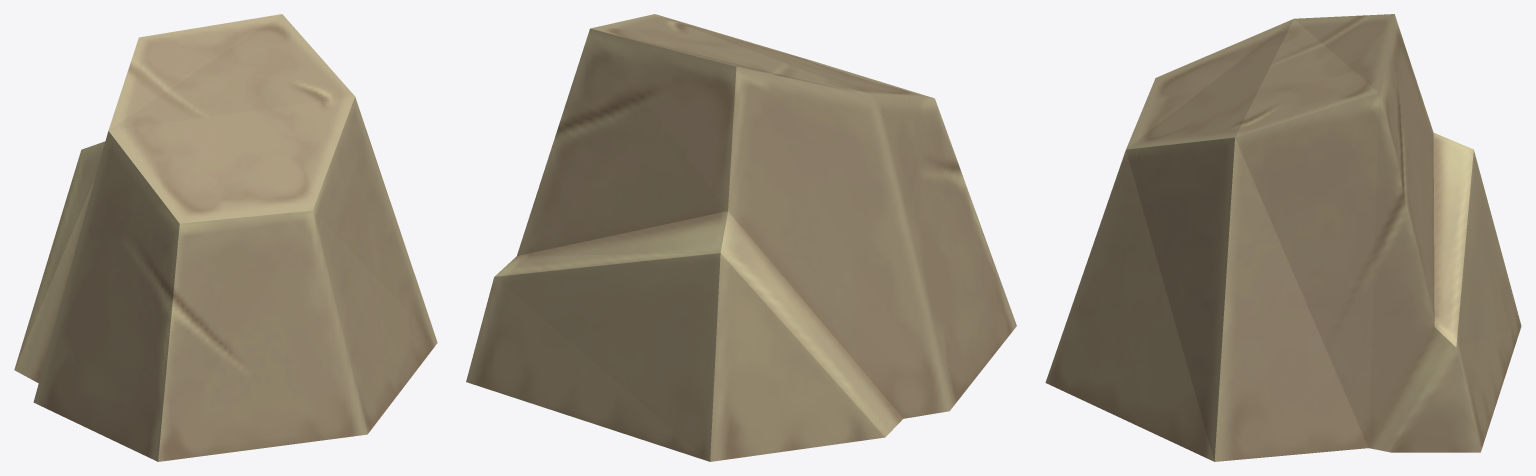
Rendered from Stone05.FBX.
3 views of the same model, side by side, from view 1: azimuth 30°, elevation 25°; view 2: azimuth 150°, elevation 25°; view 3: azimuth 270°, elevation 25° (orthographic). The views are drawn at different scales.
Parts seen in each view (by area): view 1: Stone05; view 2: Stone05; view 3: Stone05.
Part boxes in pixels (x1,y1,x2,y2): Stone05: (14,14,437,461); Stone05: (466,14,1016,461); Stone05: (1045,14,1521,461).
Bounding box in the file's own units: 176 × 138 × 180.
